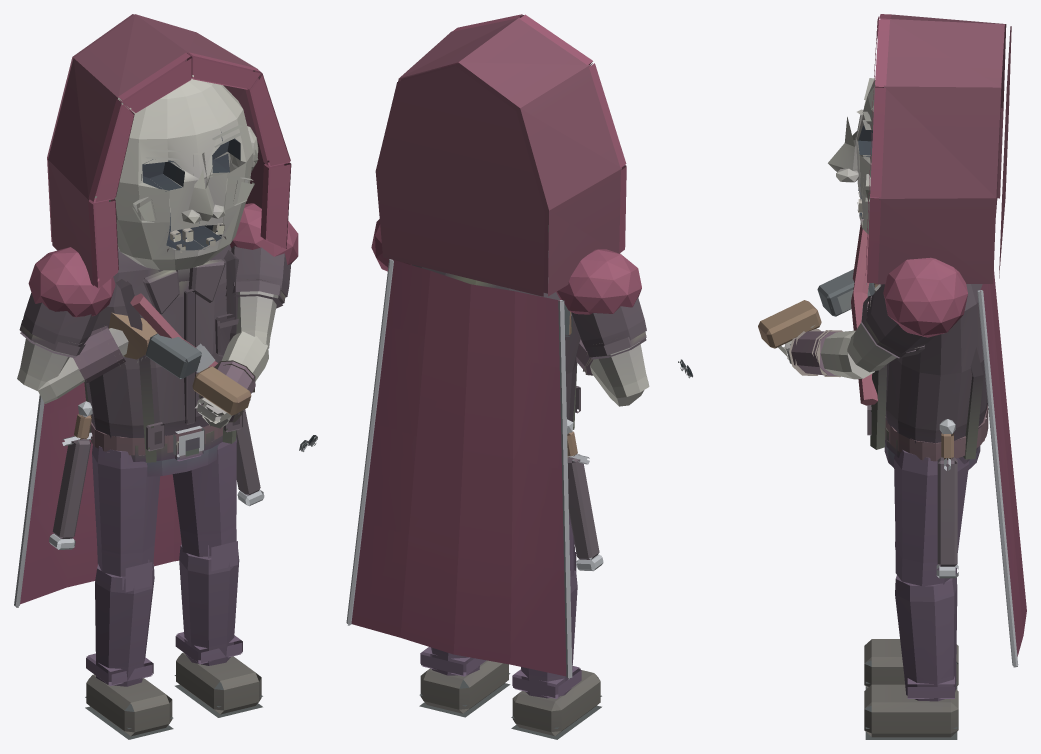
Rendered from GrandfatherAssassin.glb.
3 renders of one model, left to right at view 1: azimuth 30°, elevation 25°; view 2: azimuth 150°, elevation 25°; view 3: azimuth 270°, elevation 25°, orthographic. The views are drawn at different scales.
Parts seen in each view (by area): view 1: Head, Body, LegR, LegL, ArmR, ArmL; view 2: Body, Head, ArmR, LegR, LegL; view 3: Head, Body, LegL, ArmL, LegR.
Part boxes in pixels (<box>): Head: <box>47,14,291,288</box>; Body: <box>14,240,317,607</box>; LegR: <box>85,445,173,739</box>; LegL: <box>172,437,262,717</box>; ArmR: <box>17,247,146,403</box>; ArmL: <box>195,203,298,428</box>; Body: <box>346,251,603,679</box>; Head: <box>375,14,626,296</box>; ArmR: <box>556,249,649,406</box>; LegR: <box>511,513,601,739</box>; LegL: <box>419,647,510,717</box>; Head: <box>828,14,1011,284</box>; Body: <box>678,223,1026,667</box>; LegL: <box>864,450,968,739</box>; ArmL: <box>778,257,967,379</box>; LegR: <box>864,539,958,689</box>.
Bounding box in the file's own units: 2.76 × 6.51 × 2.99.
